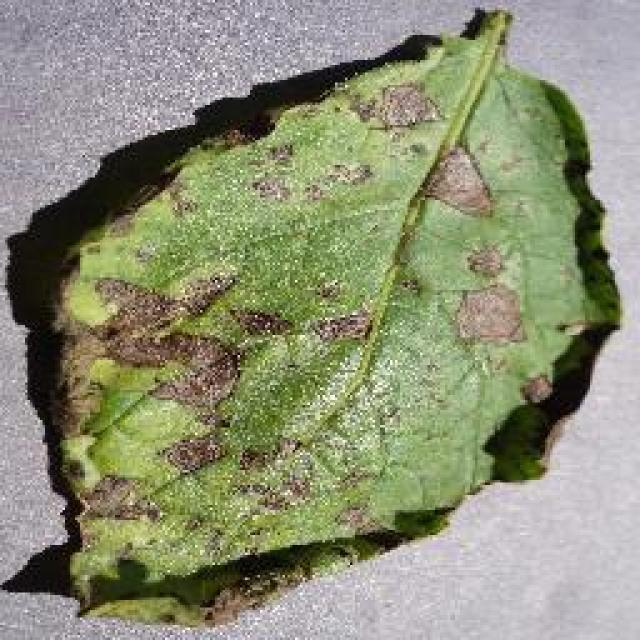Potato___Early_blight: (42, 7, 624, 633)
